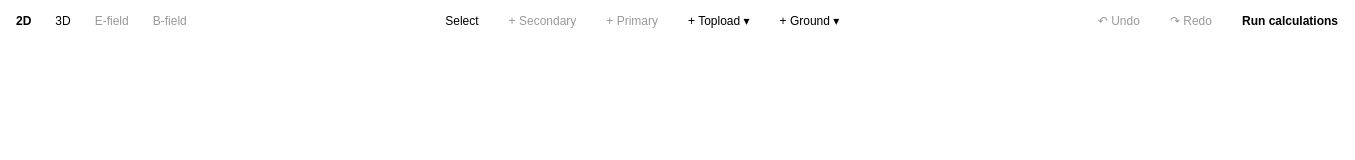
Toolbar placement dropdown › reflects the armed geometry in the active button label
Click the button with test id "tool-ground" at x=809, y=21, box [768,8,851,34]
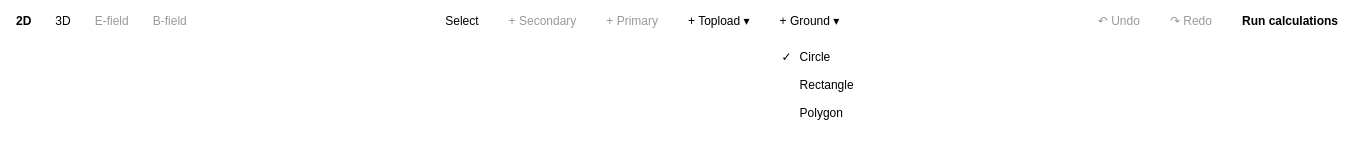
Click the menu item with test id "shape-ground-polygon" at x=842, y=113, box [774,100,912,126]
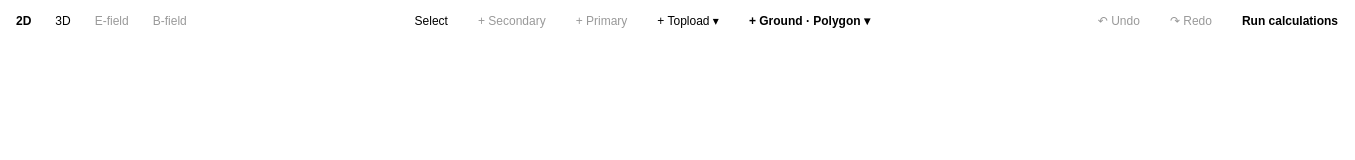
Result: the button with test id "tool-ground" shows "Polygon" at [737,8,882,34]
